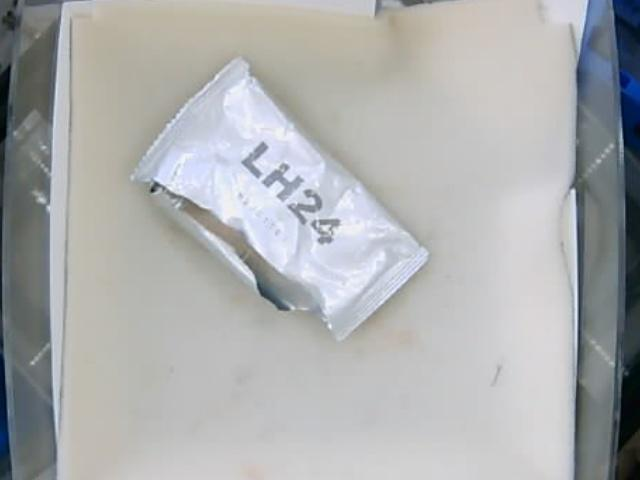Medicine: (129, 56, 429, 342)
